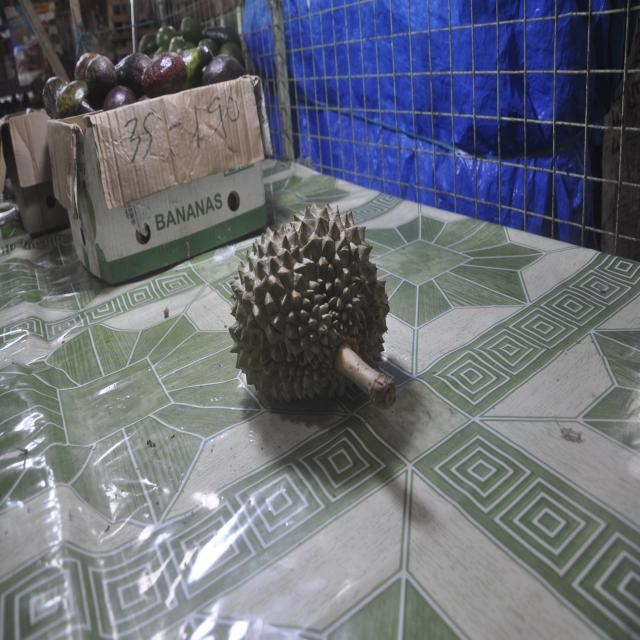mature: (214, 161, 416, 462)
